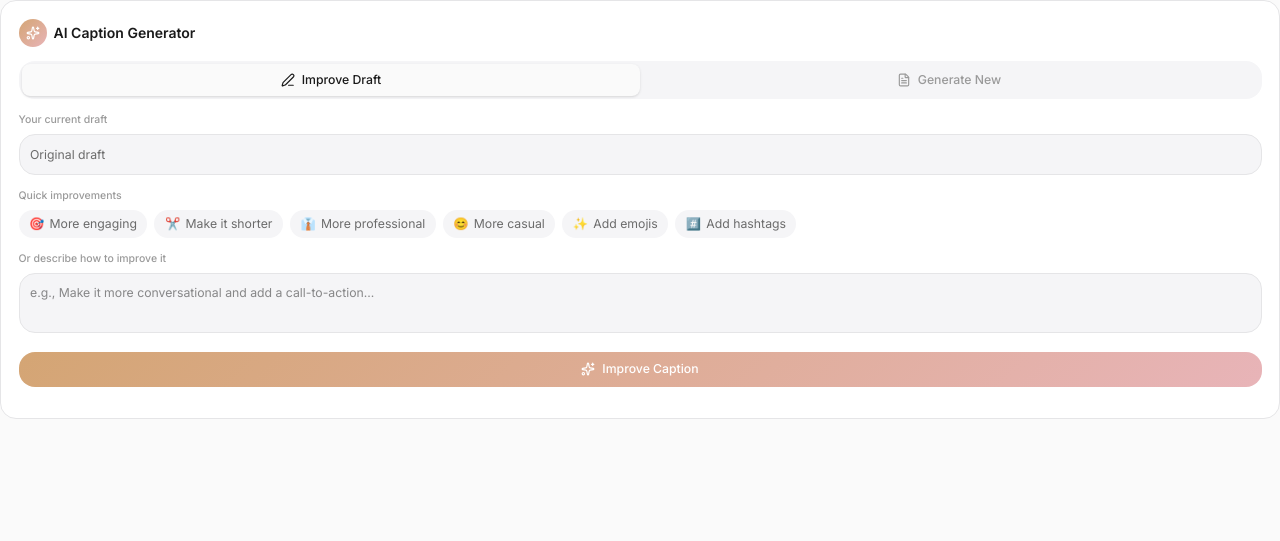
Scenario: AICaptionGenerator › shows API errors and allows retrying with a custom instruction
The width and height of the screenshot is (1280, 541).
Replace the text in the text box with "Keep the opening sentence" at (640, 302), box x1=18 y1=272 x2=1262 y2=332
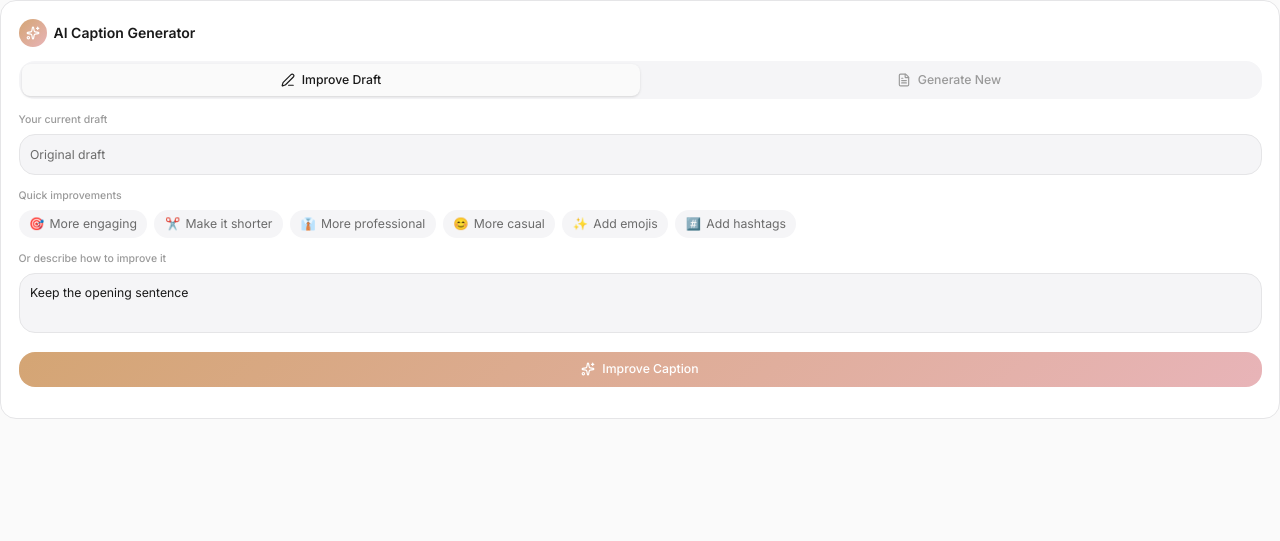
Click the button "Improve Caption" at (640, 369), box x1=18 y1=352 x2=1262 y2=386
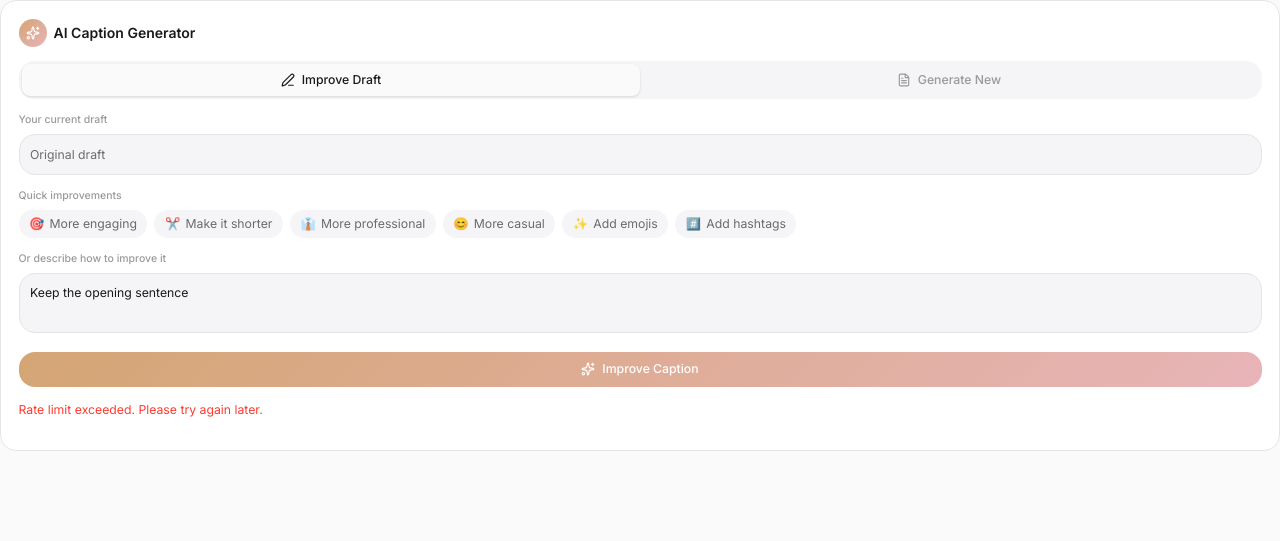
Check: the message shows "Rate limit exceeded", box x1=18 y1=402 x2=263 y2=416
Click the button "Improve Caption" at (640, 369), box x1=18 y1=352 x2=1262 y2=386
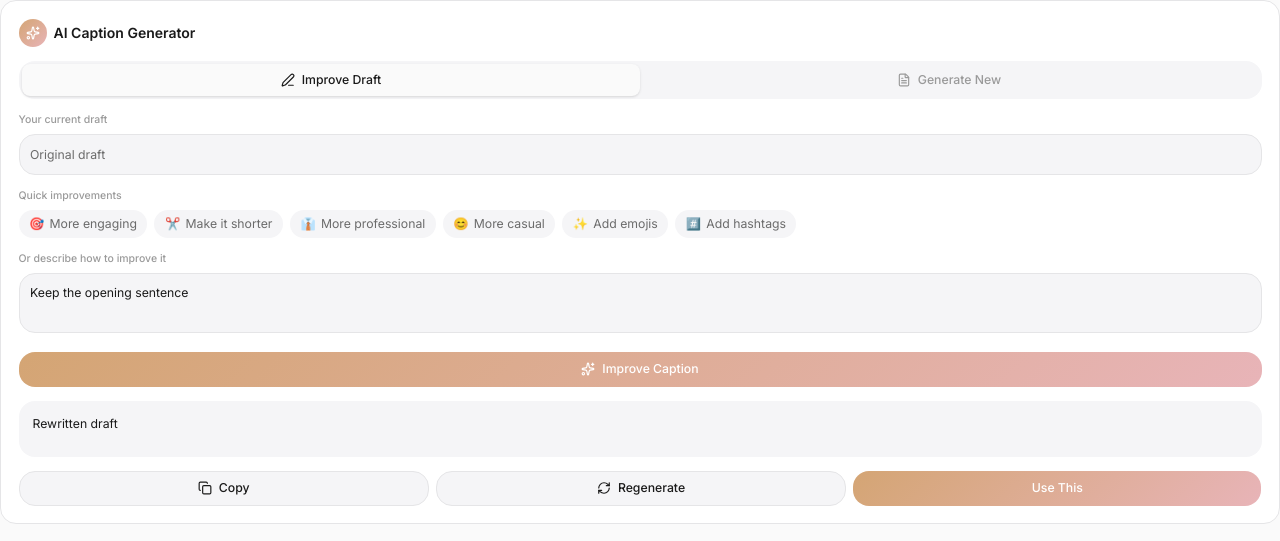
Check: the text "Rewritten draft" is shown, box x1=32 y1=416 x2=118 y2=430
Check: the message "Rate limit exceeded. Please try again later." is gone
